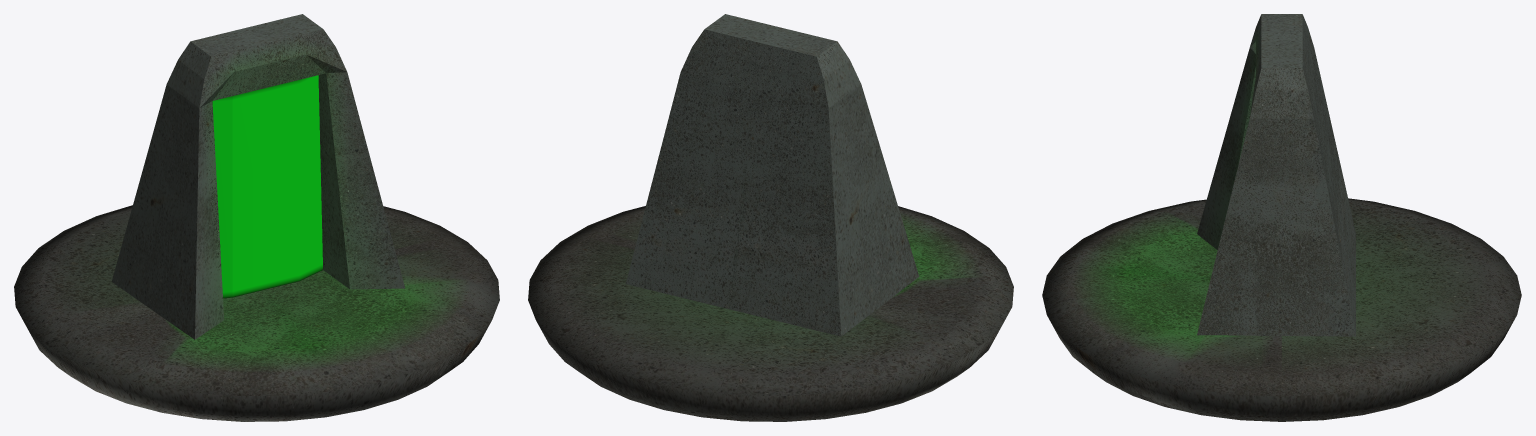
The model's file is HaloDoor.glb.
The picture shows the model from 3 angles, left to right: view 1: azimuth 30°, elevation 25°; view 2: azimuth 150°, elevation 25°; view 3: azimuth 270°, elevation 25°; orthographic projection.
Parts seen in each view (by area): view 1: Circle, Cube, Portal; view 2: Cube, Circle; view 3: Circle, Cube.
Boxes of the visible parts, x1,y1,x2,y2 form: Circle: [14, 205, 499, 421]; Cube: [111, 14, 405, 339]; Portal: [212, 75, 322, 298]; Cube: [625, 14, 919, 336]; Circle: [528, 206, 1013, 421]; Circle: [1042, 198, 1521, 421]; Cube: [1197, 14, 1355, 336].
Bounding box in the file's own units: 1.78 × 1.19 × 1.78.
3 materials, 2 textured.
